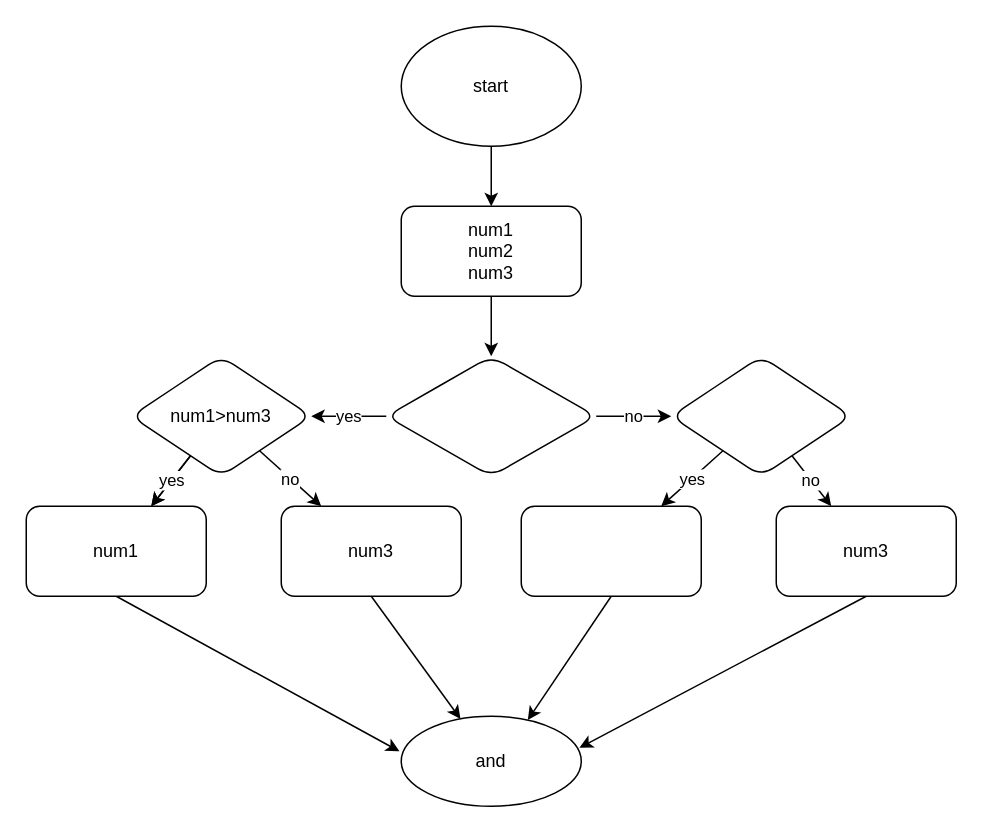
Some shapes in this 983 by 833 pixel diagram are drawn without their labels. The shapes that lost their labels are listed below. From the top down, each one's centre as x and y in pixels, then its label:
At (x=490, y=415): "num1>num2".
At (x=760, y=415): "num2>num3".
At (x=610, y=550): "num2".
